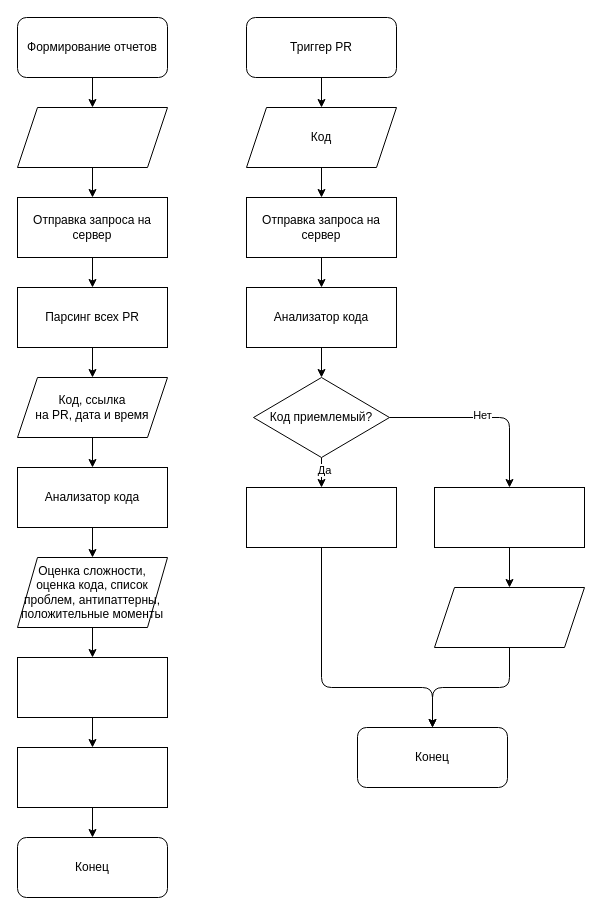
Some shapes in this 602 by 915 pixel diagram are drawn without their labels. The centre of each missing label's shape, as x and y in pixels:
"Апрув PR" goes at point 321,517.
"Отклонение PR" goes at point 509,517.
"Отправка отчета на фронтенд, сохранение отчета в бд" goes at point 92,777.
"Почта, период" goes at point 92,137.
"Список проблем, антипаттерны, как можно исправить" goes at point 509,617.
"Формирование отчета" goes at point 92,687.
